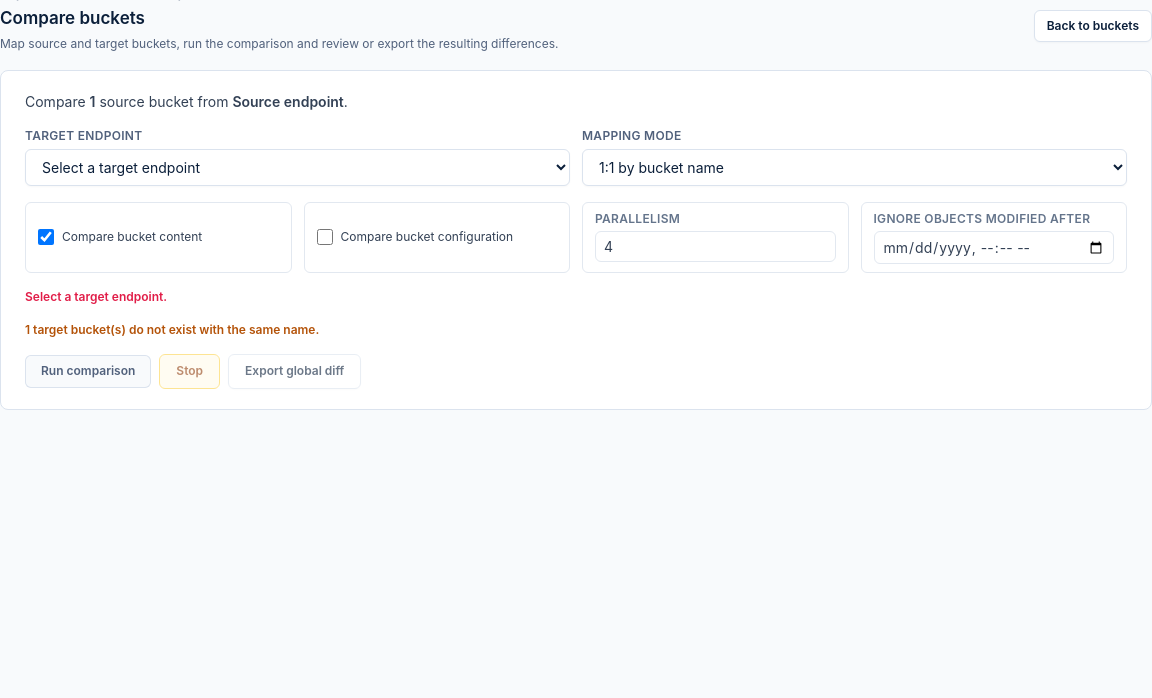
it: CephAdminBucketCompareModal › runs comparison with a display-limited diff and exposes visible section keys
Expected: the dropdown labelled "Mapping mode" is shown, [582, 148, 1127, 186]
Select "Target endpoint" in the dropdown labelled "Target endpoint": (298, 167) [25, 148, 570, 186]
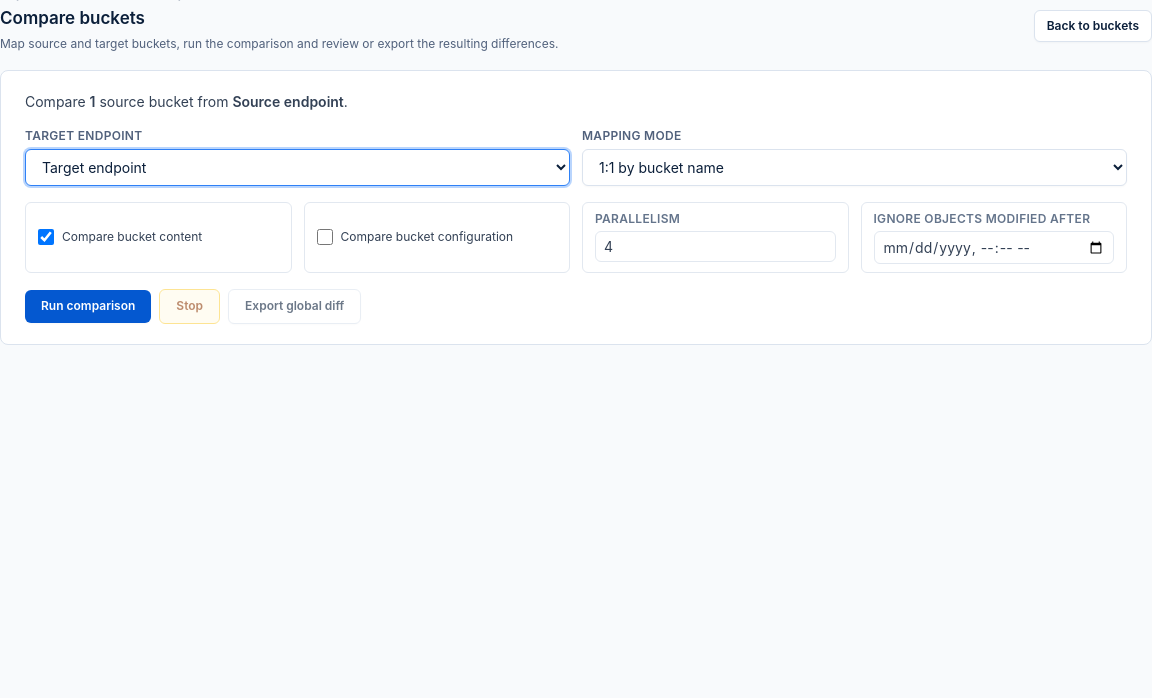
Now the button "Run comparison" is enabled
Click the button "Run comparison": click(88, 306) [25, 290, 151, 322]
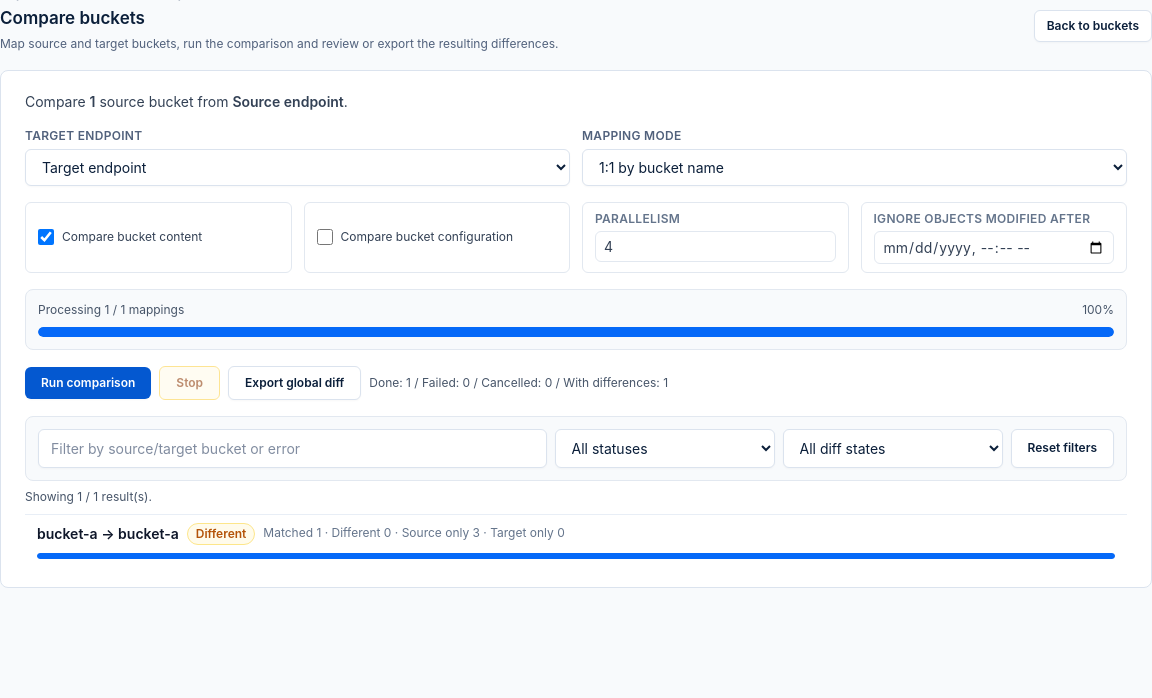
Click the heading that starts with "bucket-a": click(67, 533) [25, 514, 1127, 566]
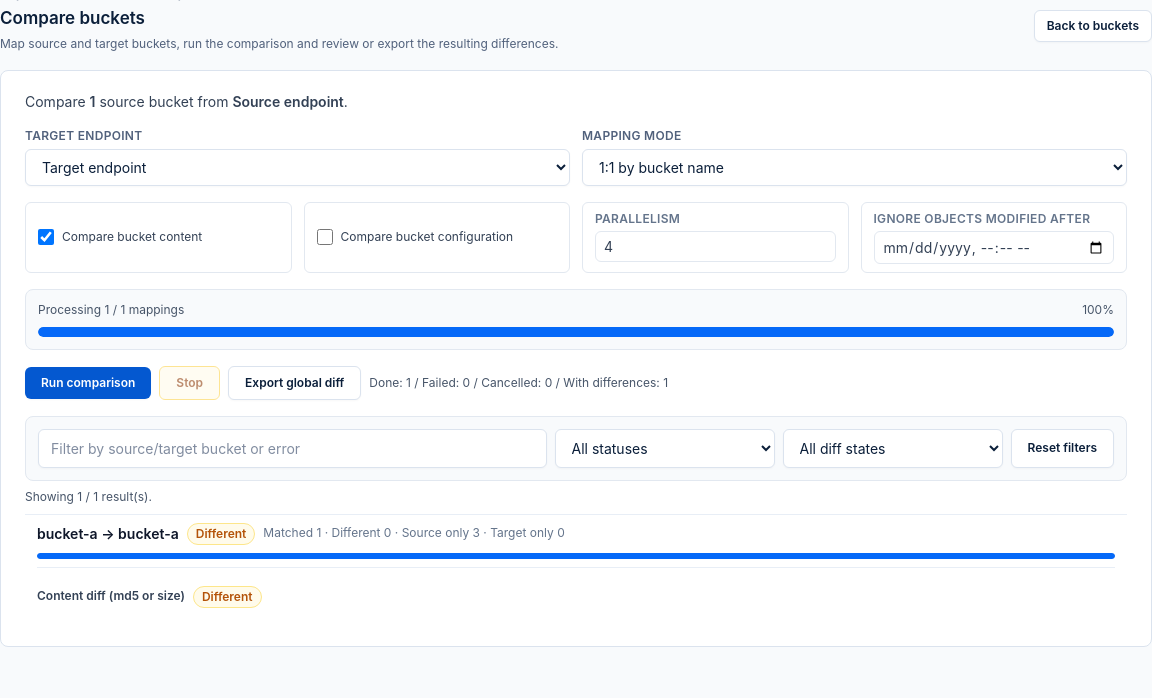
Click the heading "Content diff (md5 or size) Different": click(149, 596) [37, 586, 262, 608]
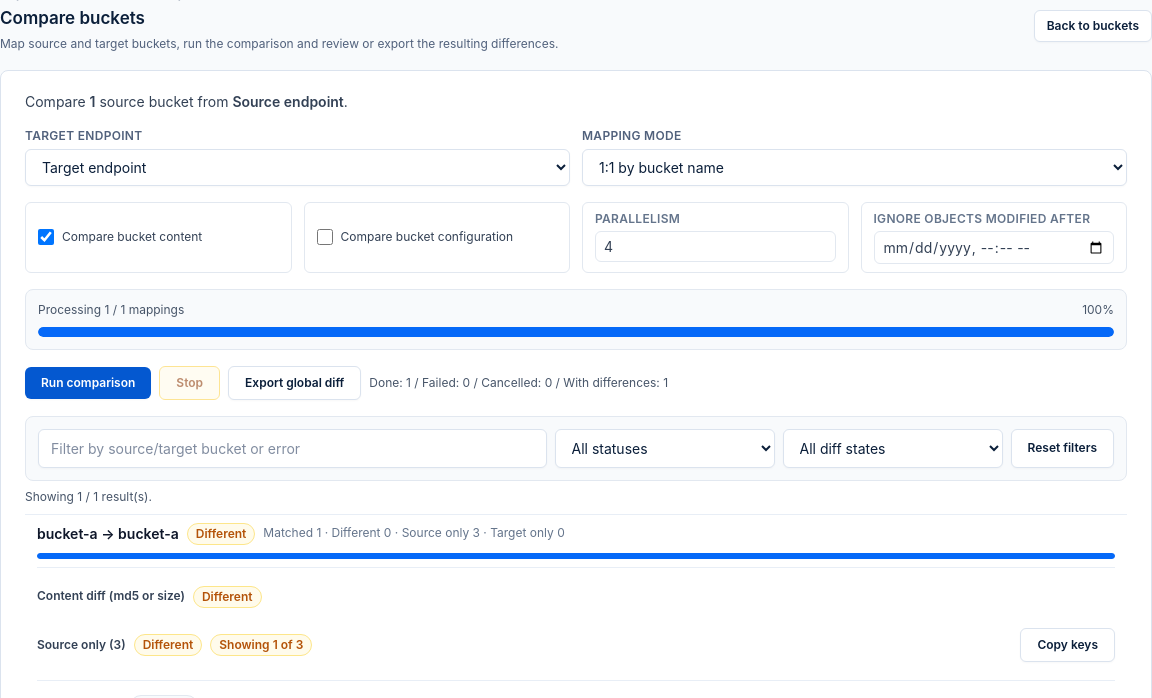
Click the heading "Source only (3)": click(81, 644) [37, 622, 1115, 668]
(page scrolled)
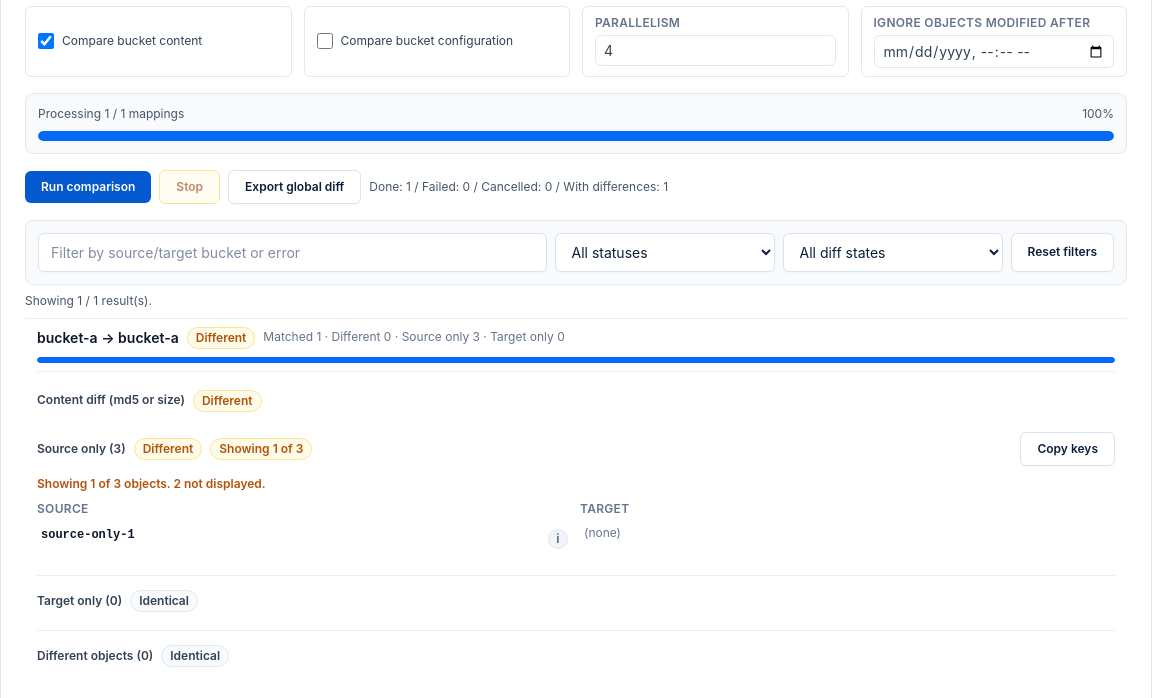
Now the text "Showing 1 of 3" is shown, box [210, 438, 312, 460]
Now the button "Copy keys" is shown, box [1020, 432, 1115, 466]
Now the text "source-only-1" is shown, box [41, 528, 135, 542]
Click the button "source-only-1 i": click(88, 535) [37, 521, 572, 555]
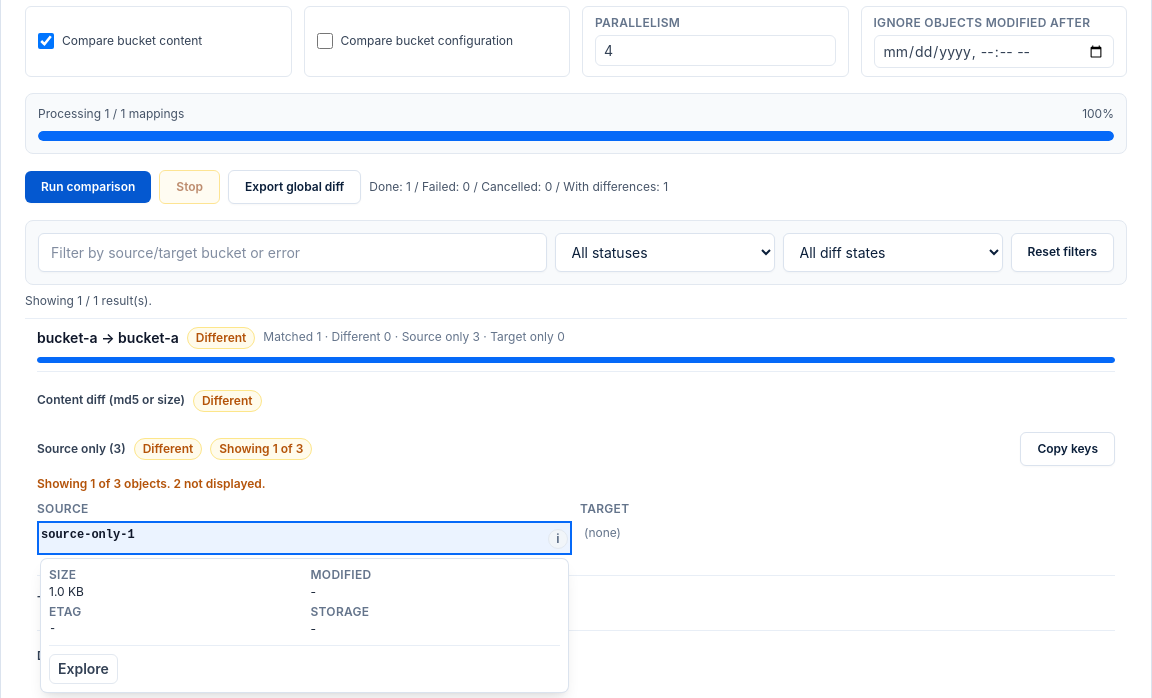
Now the text "1.0 KB" is shown, box [49, 584, 84, 598]
